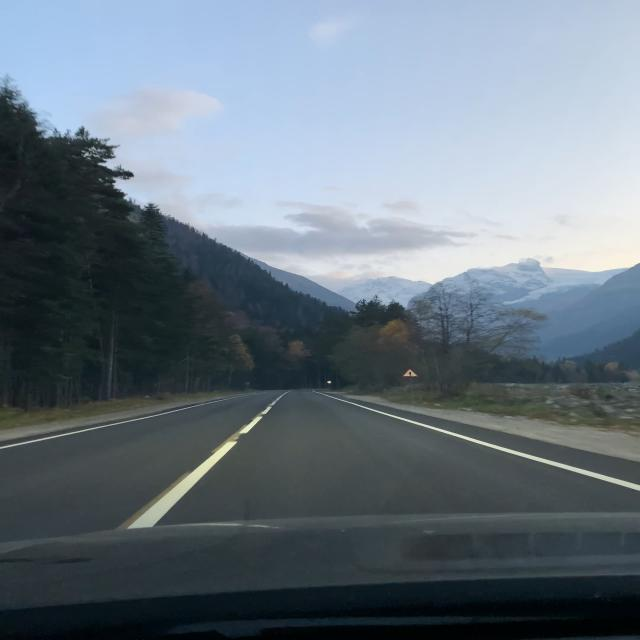asphalt: (0, 390, 640, 542)
